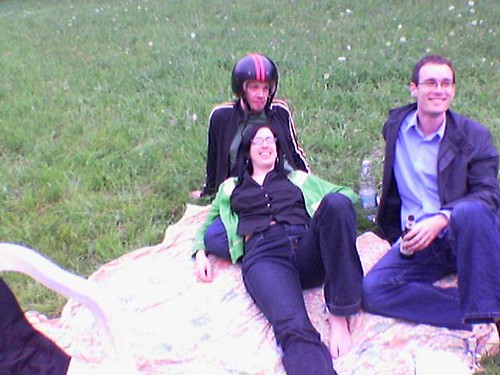helmet: (228, 51, 282, 108)
